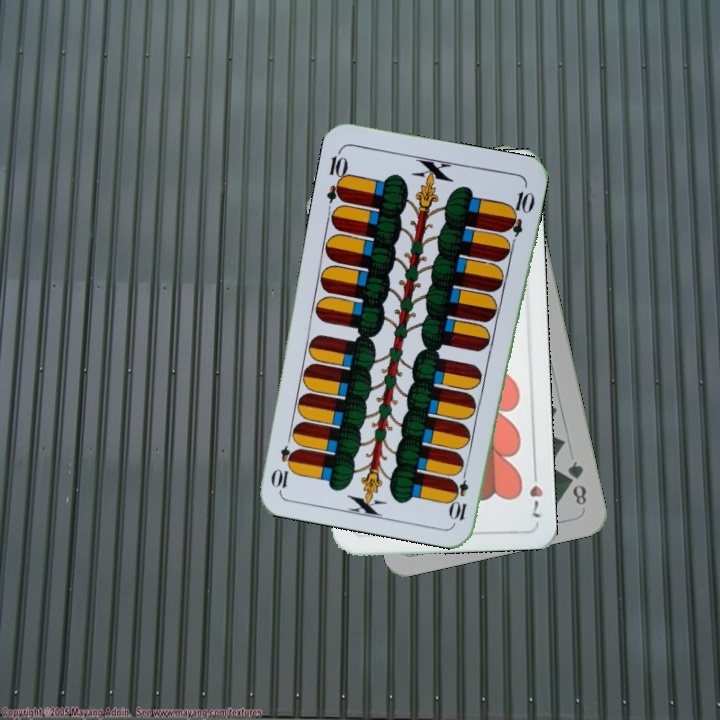E10: (322, 146, 351, 205), (448, 464, 472, 523)
G8: (563, 457, 589, 508)
H7: (526, 464, 546, 520)
